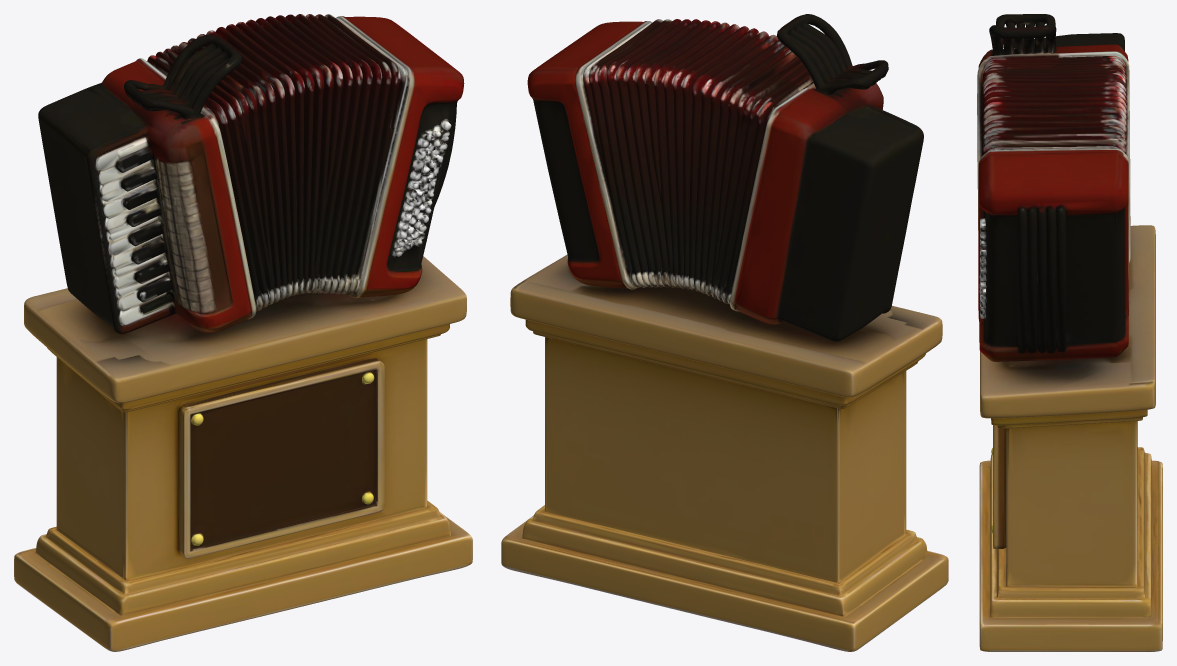
The model's file is acordeon-pedestal.glb.
3 renders of one model, left to right at view 1: azimuth 30°, elevation 25°; view 2: azimuth 150°, elevation 25°; view 3: azimuth 270°, elevation 25°, orthographic. The views are drawn at different scales.
Visible parts, largest first — view 1: acordeon; view 2: acordeon; view 3: acordeon.
Boxes of the visible parts, left/top/right/bottom form: acordeon: left=14, top=14, right=472, bottom=651; acordeon: left=501, top=14, right=948, bottom=651; acordeon: left=977, top=14, right=1162, bottom=651.
Bounding box in the file's own units: 0.6637 × 0.9655 × 0.3101.
Materials: 1 (1 with a texture image).
